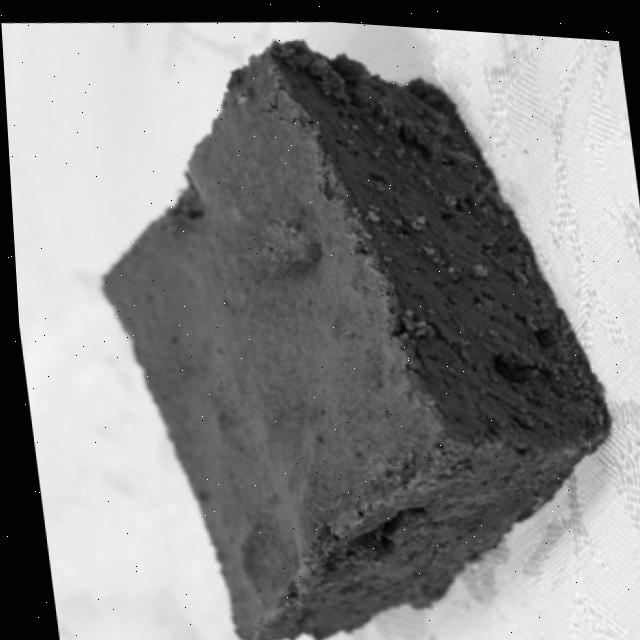蛋糕甜品: (17, 17, 640, 640)
